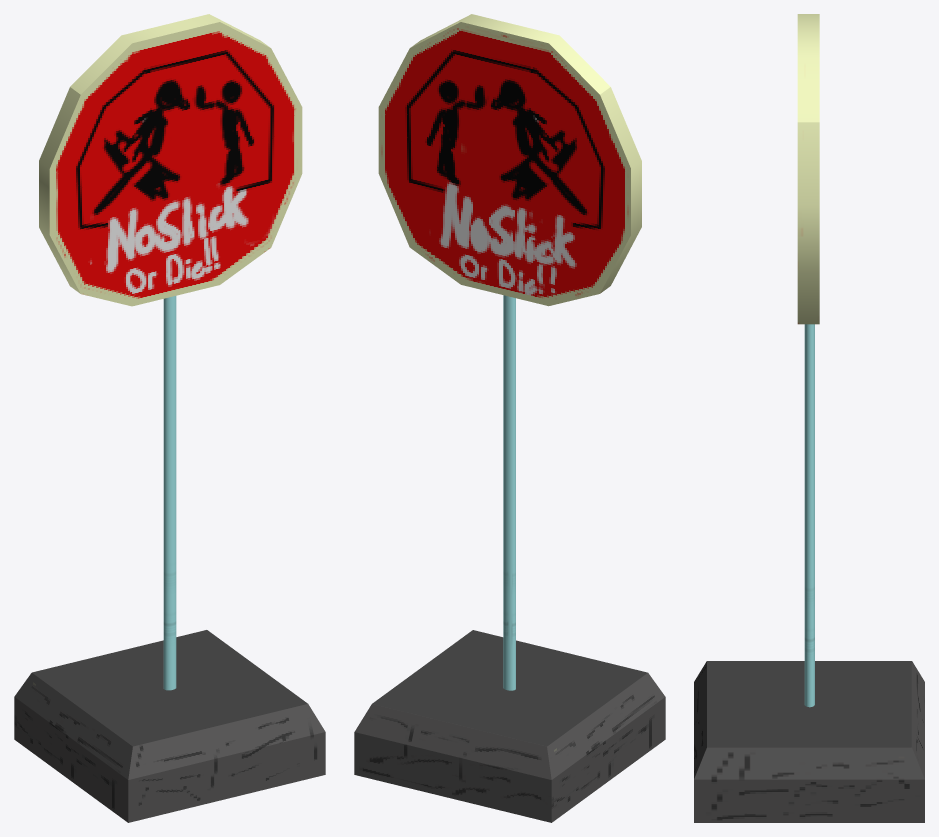
Rendered from slicksign.glb.
3 renders of one model, left to right at view 1: azimuth 30°, elevation 25°; view 2: azimuth 150°, elevation 25°; view 3: azimuth 270°, elevation 25°, orthographic.
Visible parts, largest first — view 1: stopslickingsign; view 2: stopslickingsign; view 3: stopslickingsign.
Boxes of the visible parts, box(x1,y1,x2,y2) form: stopslickingsign: box(14, 14, 325, 822); stopslickingsign: box(354, 14, 665, 822); stopslickingsign: box(694, 14, 924, 822).
Bounding box in the file's own units: 3.35 × 9.24 × 2.62.
Materials: 1 (1 with a texture image).
